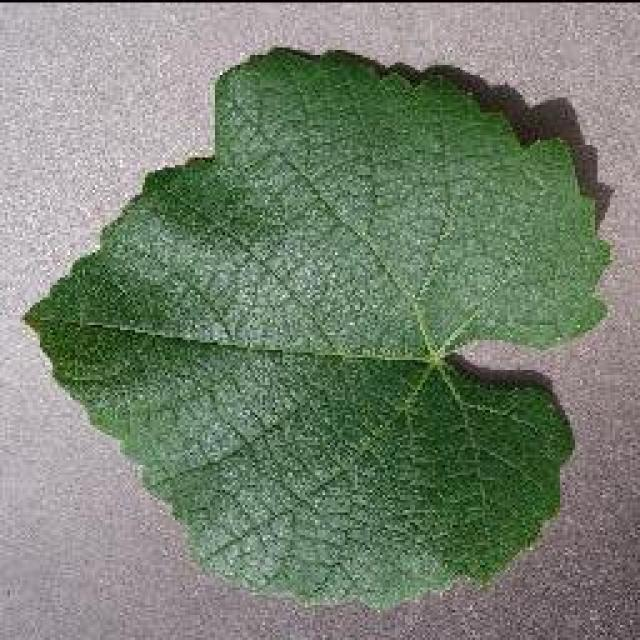Grape___healthy: (28, 50, 608, 605)
